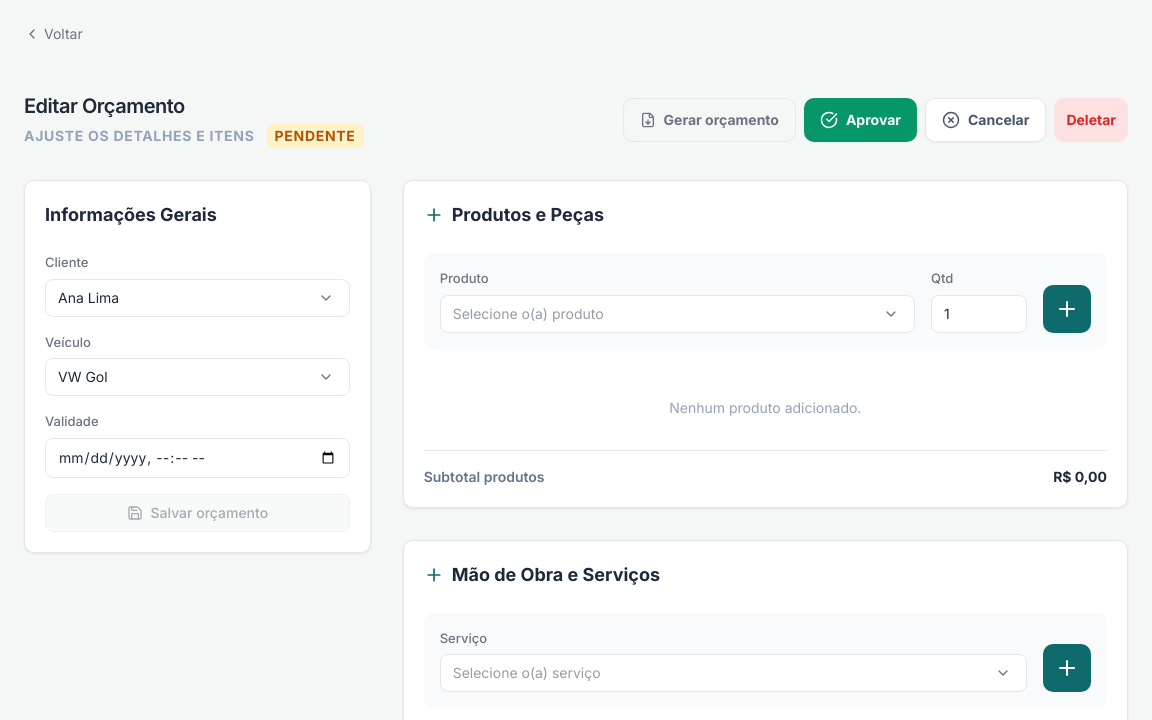
Test: <BudgetEdit> — campos travados fora de pendente › Salvar orçamento fica desabilitado até mexer em algo e volta a desabilitar depois de salvar
expect the text "pendente" is shown: met, box [266,124,364,148]
expect the button "Salvar orçamento" is disabled: met, box [45,494,350,532]
Type "2026-12-20T10:00" into the field with placeholder "Digite o(a) validade".
click(197, 458); type("2026-12-20T10:00")  # box [45,438,350,478]
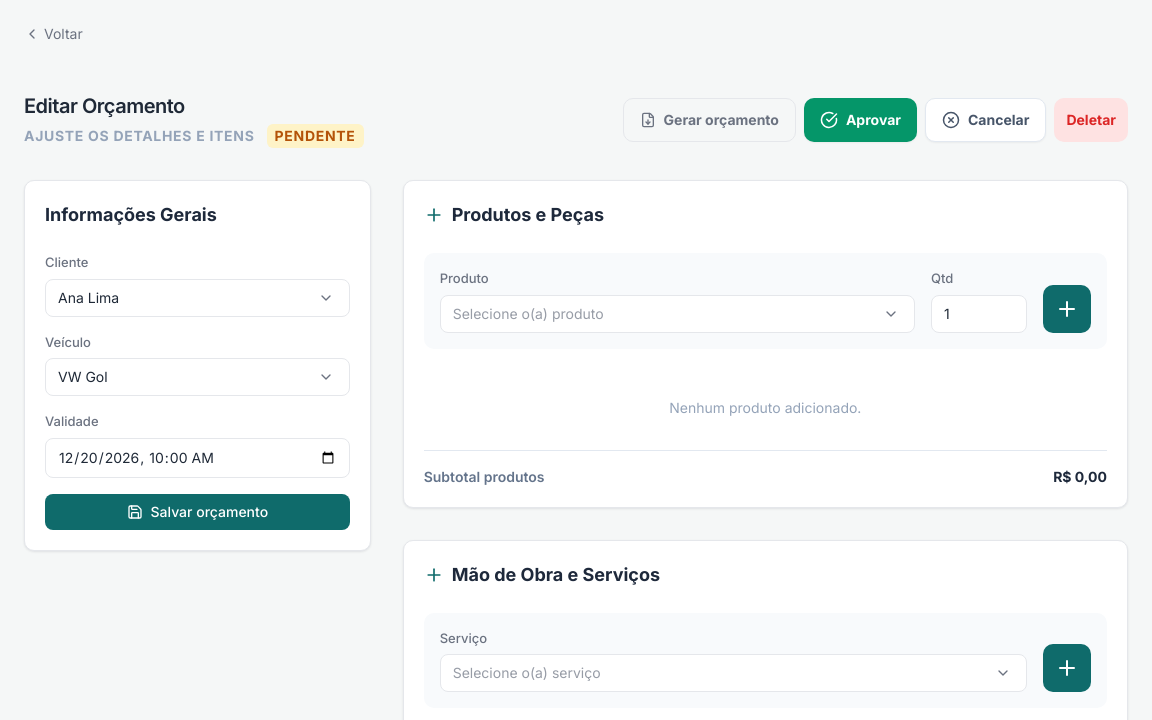
expect the button "Salvar orçamento" is enabled: met
Click the button "Salvar orçamento".
click(197, 512)  # box [45,494,350,530]
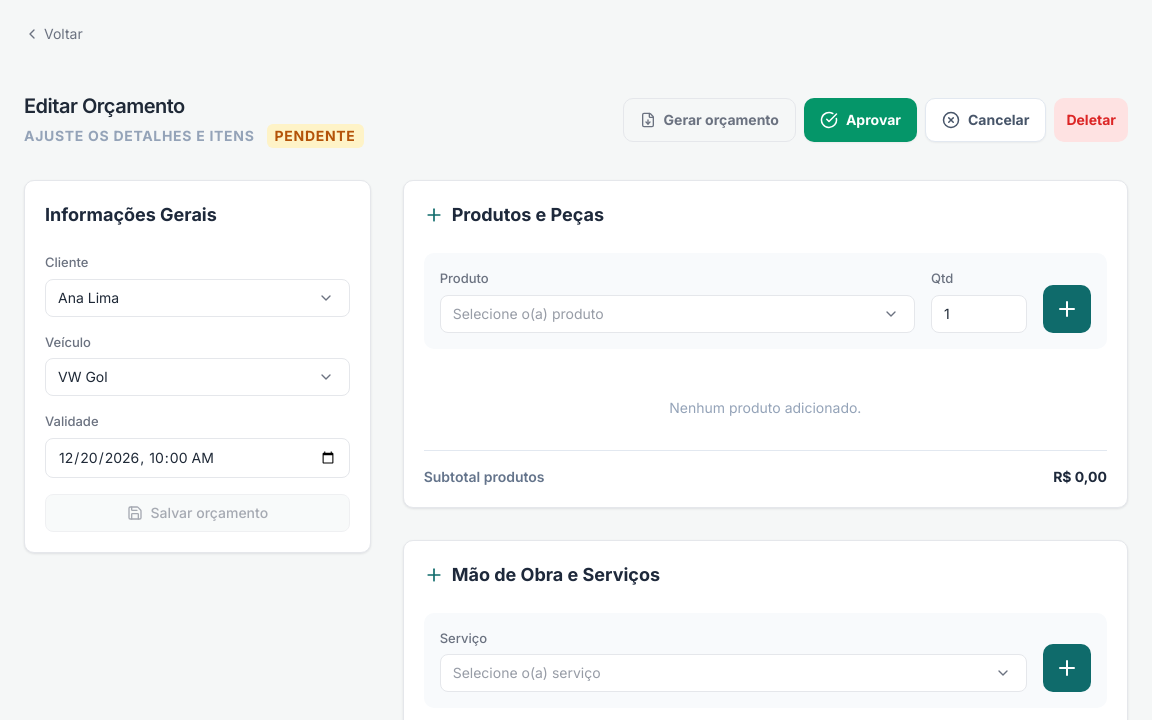
expect the button "Salvar orçamento" is disabled: met, box [45,494,350,532]
